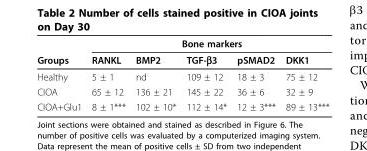table: (36, 37, 328, 112)
table column: (129, 37, 180, 112), (180, 37, 231, 112), (36, 37, 85, 112), (279, 37, 328, 112), (231, 37, 279, 112), (85, 37, 129, 112)
table column header: (36, 37, 328, 68)
table row: (36, 50, 328, 68), (36, 68, 328, 83), (36, 83, 328, 98), (36, 98, 328, 112), (36, 37, 328, 50)
table spanning cell: (85, 37, 328, 50), (36, 37, 85, 68)
